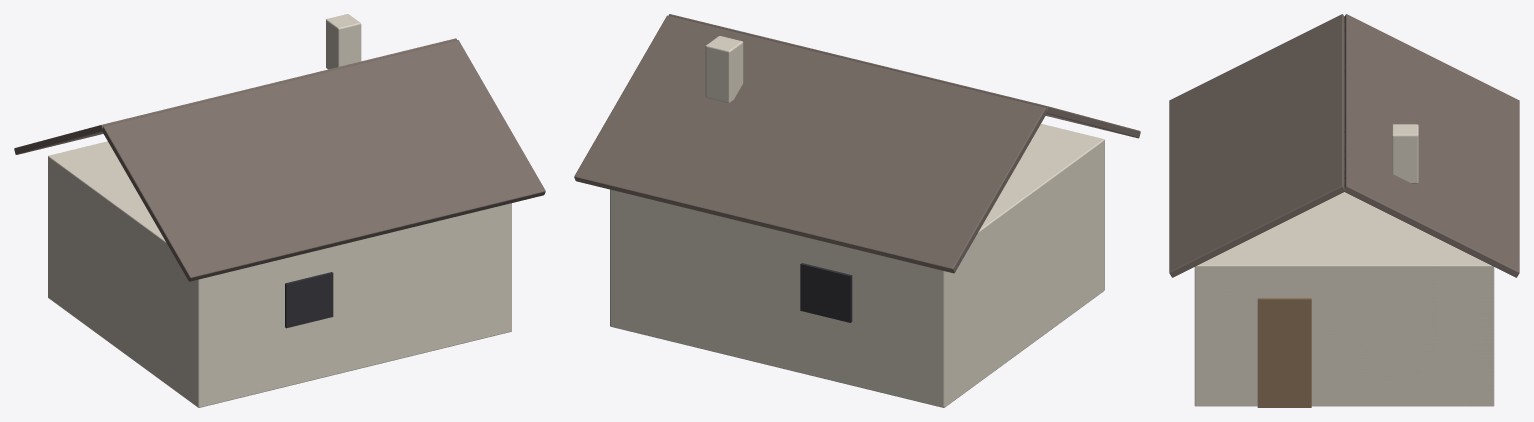
The model's file is edificio.glb.
3 views of the same model, side by side, from view 1: azimuth 30°, elevation 25°; view 2: azimuth 150°, elevation 25°; view 3: azimuth 270°, elevation 25° (orthographic). The views are drawn at different scales.
Visible parts, largest first — view 1: Techo_Derecho, Edificio, Ventana_Derecha, Techo_Izquierdo, Chimenea; view 2: Edificio, Techo_Izquierdo, Ventana_Izquierda, Chimenea, Techo_Derecho; view 3: Edificio, Techo_Derecho, Techo_Izquierdo, Puerta, Chimenea.
Boxes of the visible parts, box(x1,y1,x2,y2) form: Techo_Derecho: box(102, 40, 545, 281); Edificio: box(48, 141, 511, 407); Ventana_Derecha: box(285, 272, 333, 328); Techo_Izquierdo: box(14, 38, 456, 154); Chimenea: box(326, 14, 361, 69); Edificio: box(610, 123, 1104, 407); Techo_Izquierdo: box(574, 15, 1046, 273); Ventana_Izquierda: box(800, 263, 852, 322); Chimenea: box(705, 36, 743, 103); Techo_Derecho: box(668, 14, 1140, 138); Edificio: box(1194, 192, 1494, 406); Techo_Derecho: box(1169, 14, 1344, 277); Techo_Izquierdo: box(1344, 14, 1519, 277); Puerta: box(1257, 298, 1311, 407); Chimenea: box(1392, 124, 1418, 183).
Bounding box in the file's own units: 6.8 × 4.54 × 5.85.
